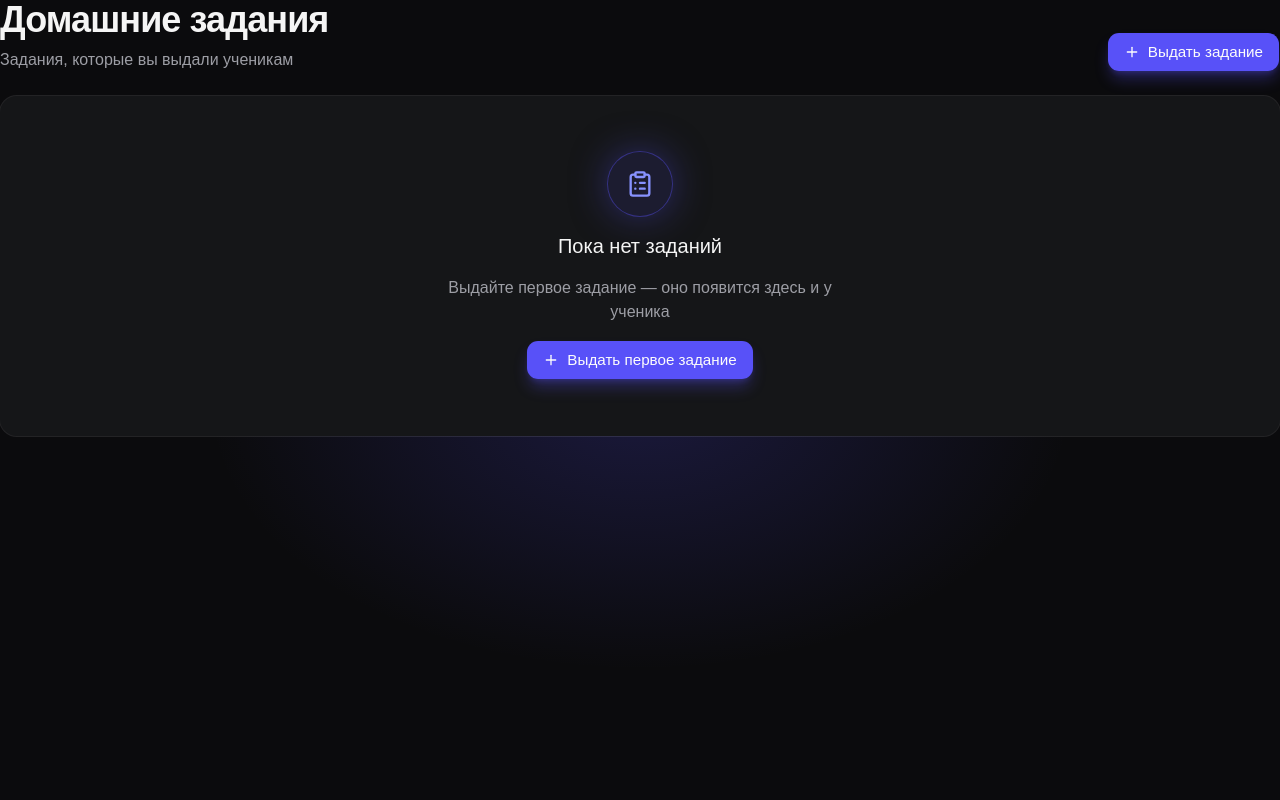
Test case: Диалог «Новое домашнее задание» › кнопка в пустом состоянии тоже открывает диалог
Click the button "Выдать первое задание". click: click(640, 360)
box: x1=526 y1=340 x2=754 y2=380
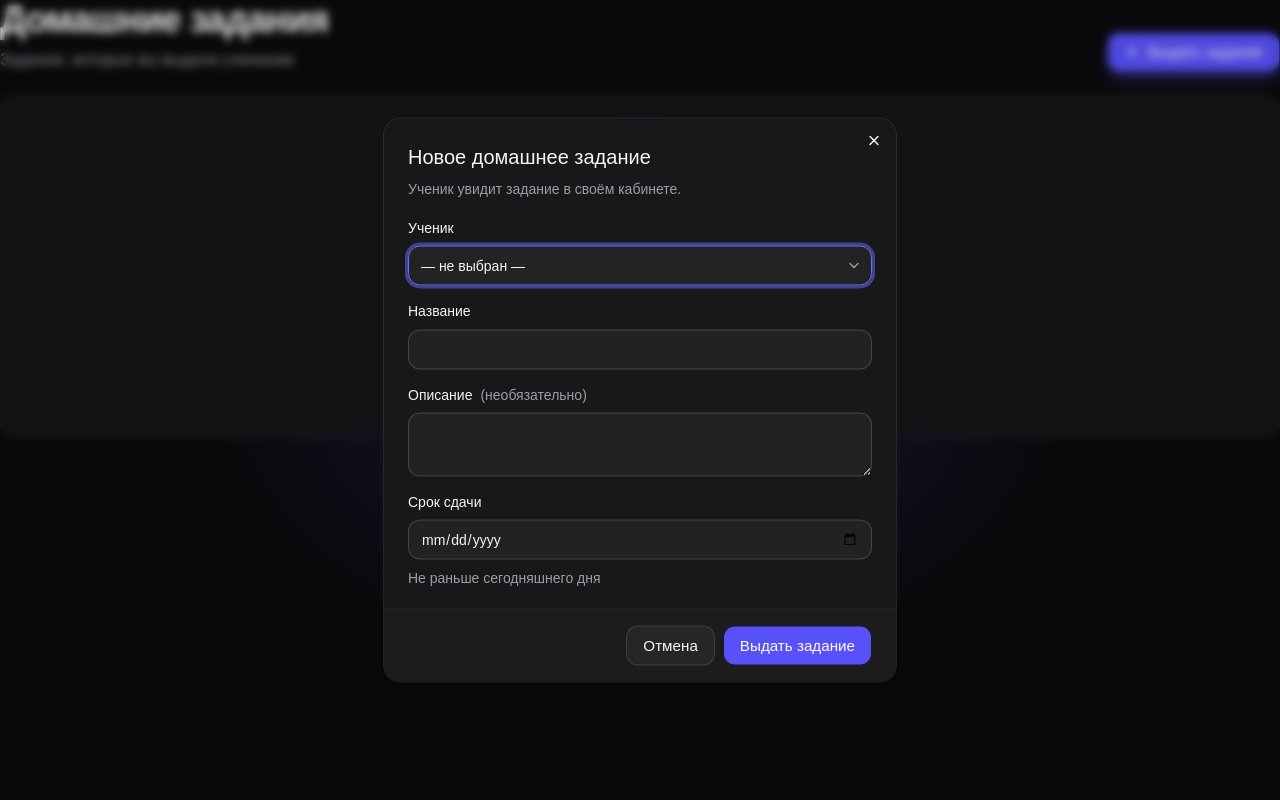
Now the dialog is shown, box x1=384 y1=118 x2=896 y2=682
